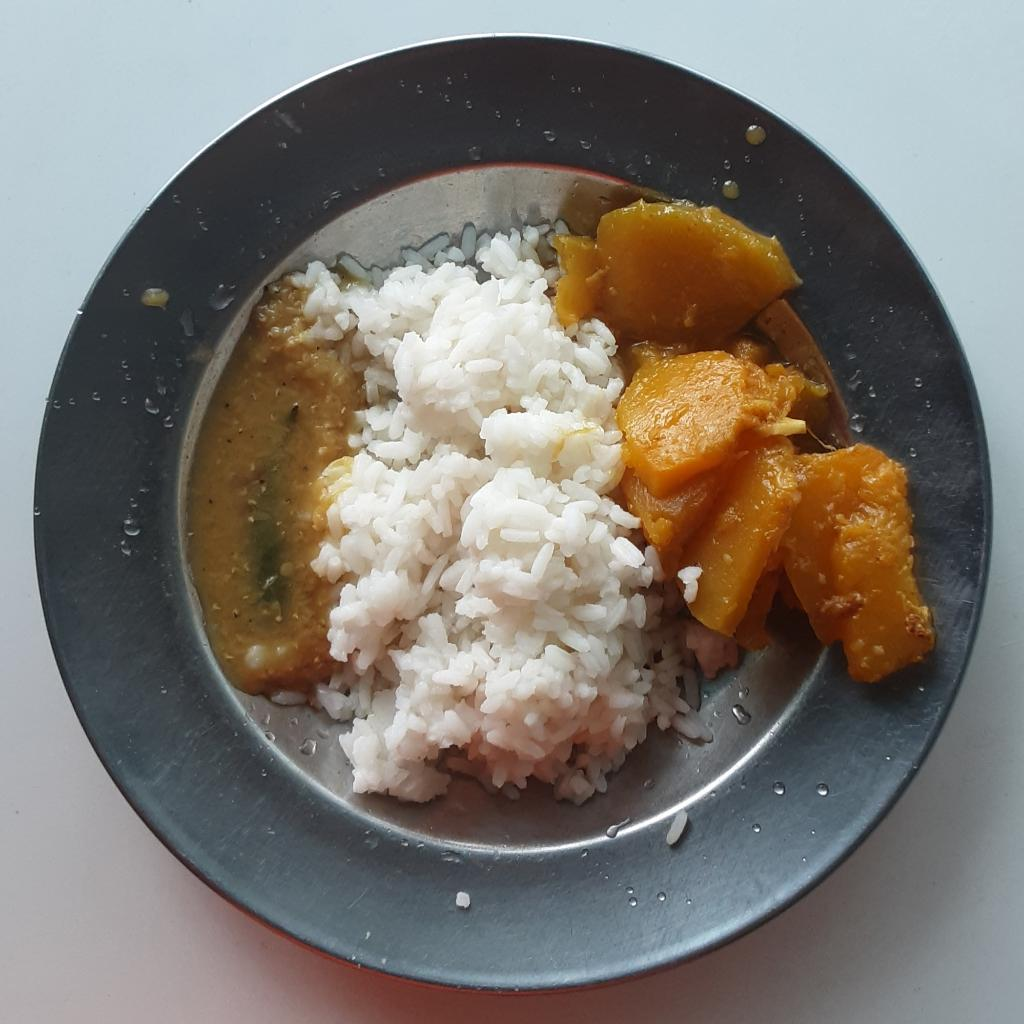daal: (174, 272, 359, 699)
kumra-vaji: (555, 200, 938, 688)
rice: (266, 220, 716, 806)
